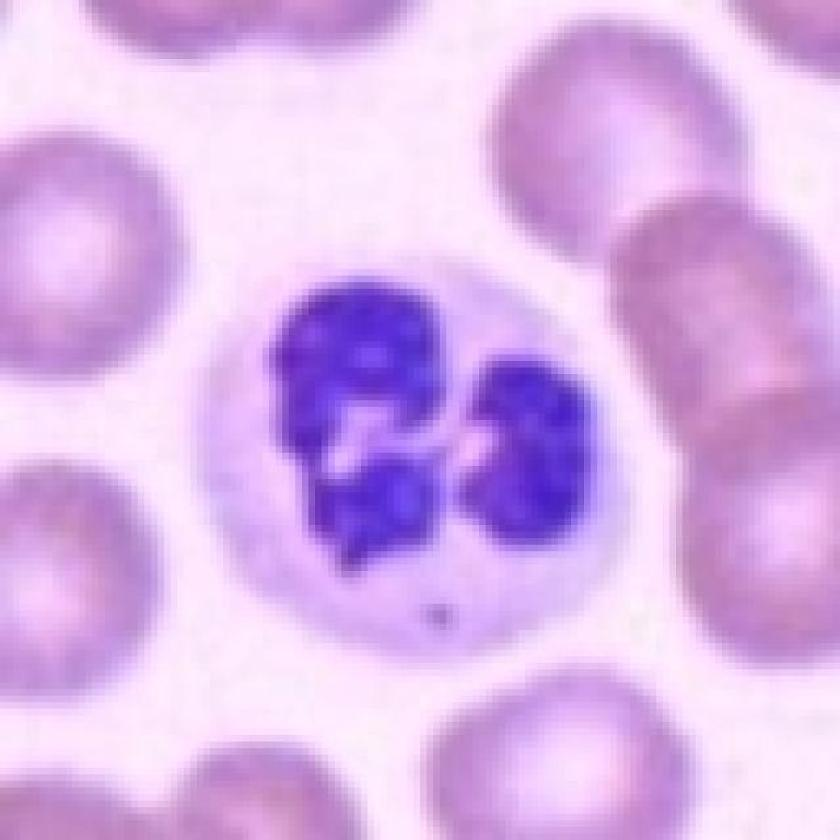neutrophil: (135, 235, 746, 716)
